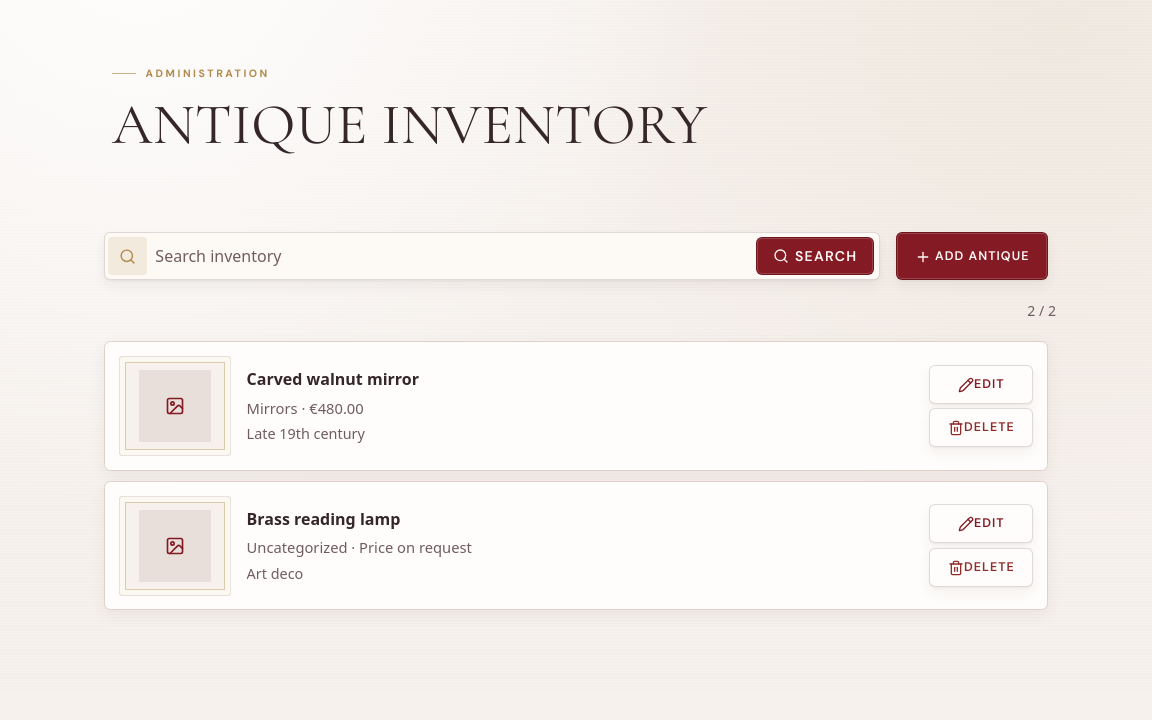
Test: Antique administration page › searches the inventory and clears the search again
Expected: the text "Carved walnut mirror" is shown, [247,368,419,390]
Type "mirror" into the field with placeholder "Search inventory". click: (452, 256)
box: [153,237,750,275]
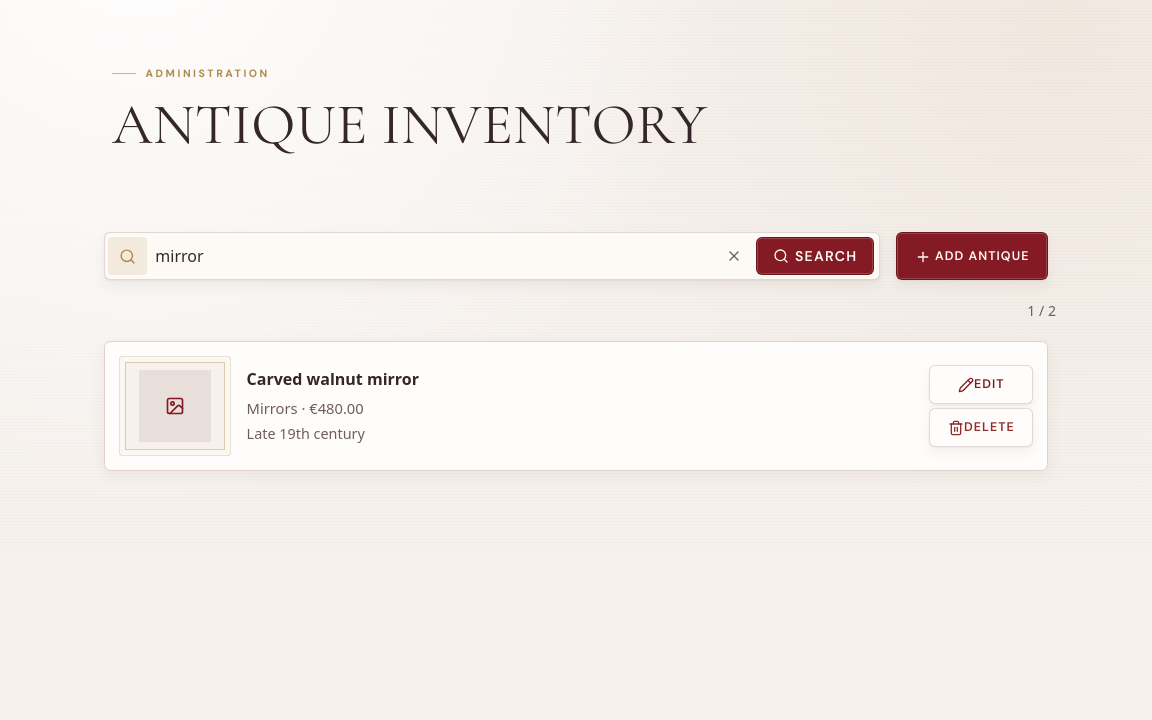
Expected: the text "Carved walnut mirror" is shown, [247,368,419,390]
Result: the text "Brass reading lamp" is gone
Click the button named "Clear search". click: (734, 256)
box: [718,240,750,272]
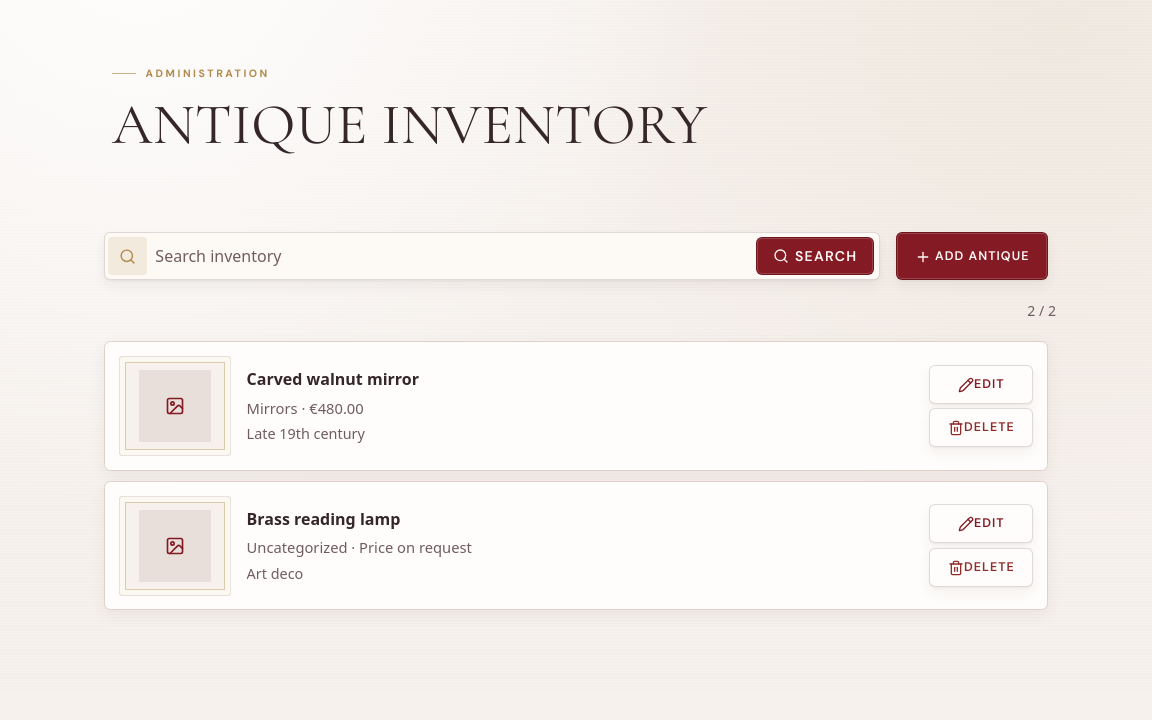
Result: the text "Brass reading lamp" is shown at [247,508,400,530]
